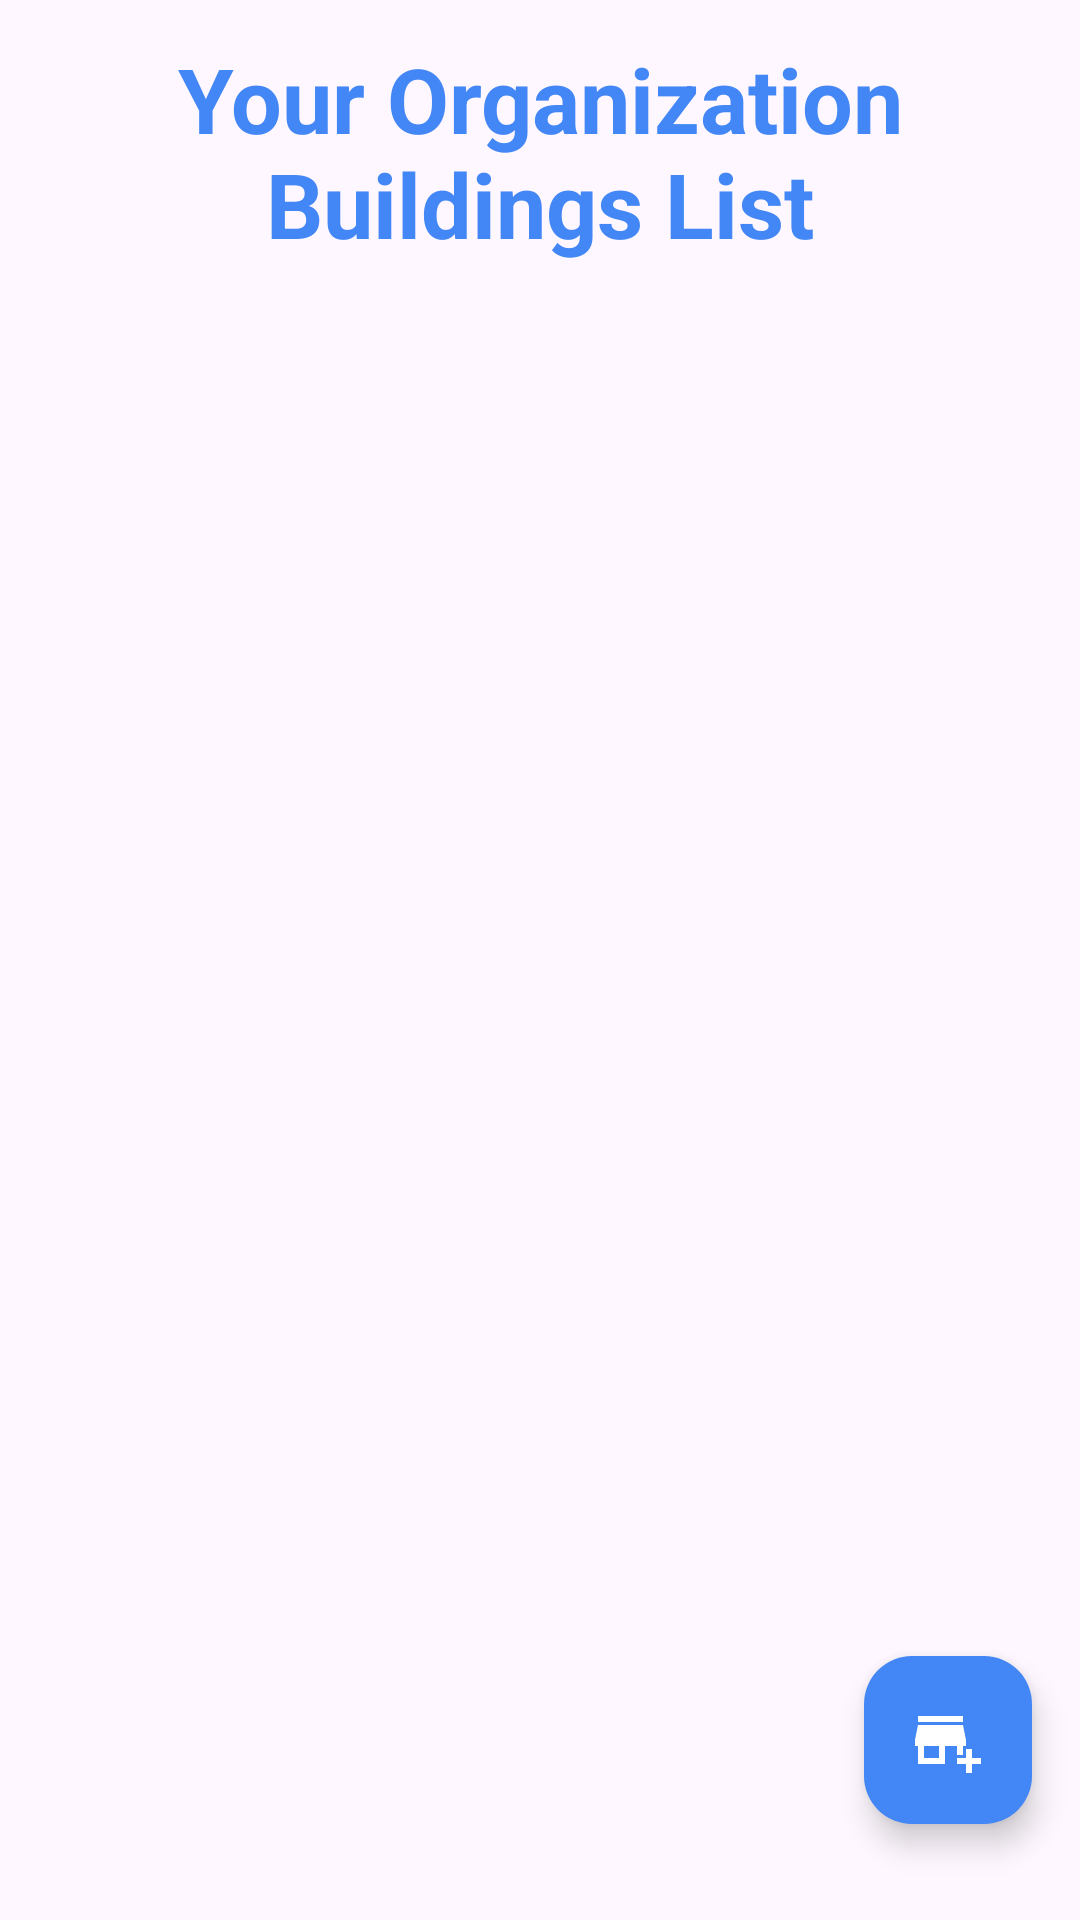

Icon click points for this 1080px×1920px phone screenshot, format point (x, y):
building: point (948, 1740)
